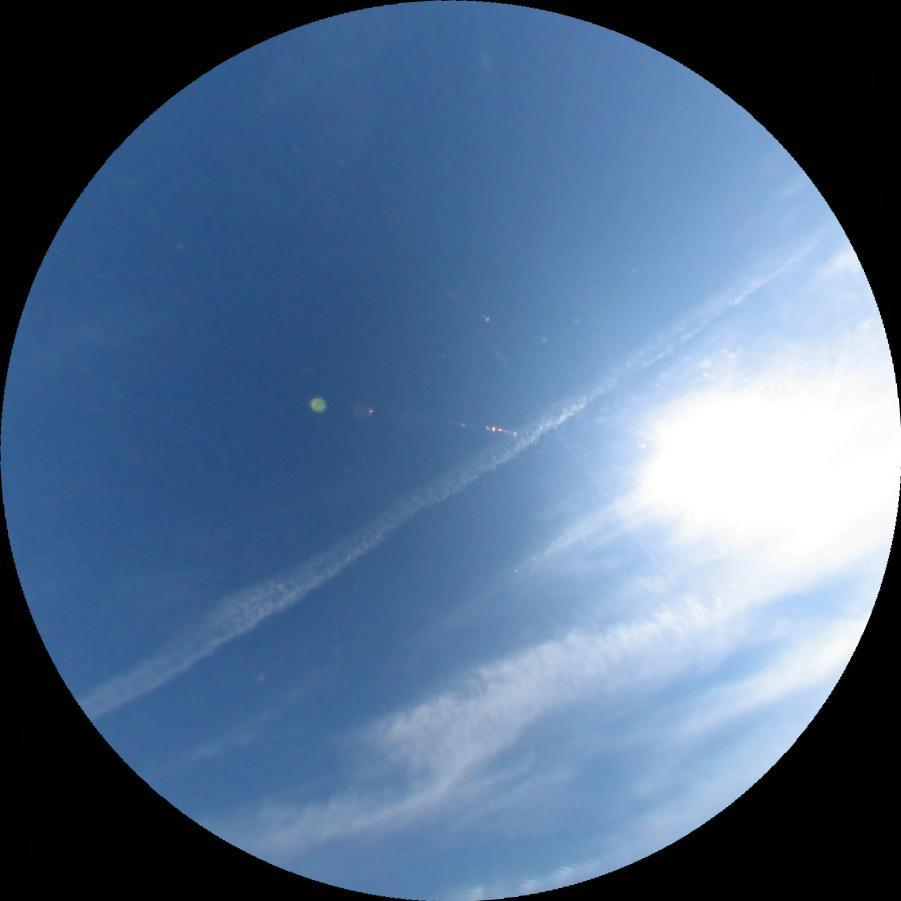contrail veryold: (74, 221, 859, 729)
unknow: (444, 285, 695, 610)
